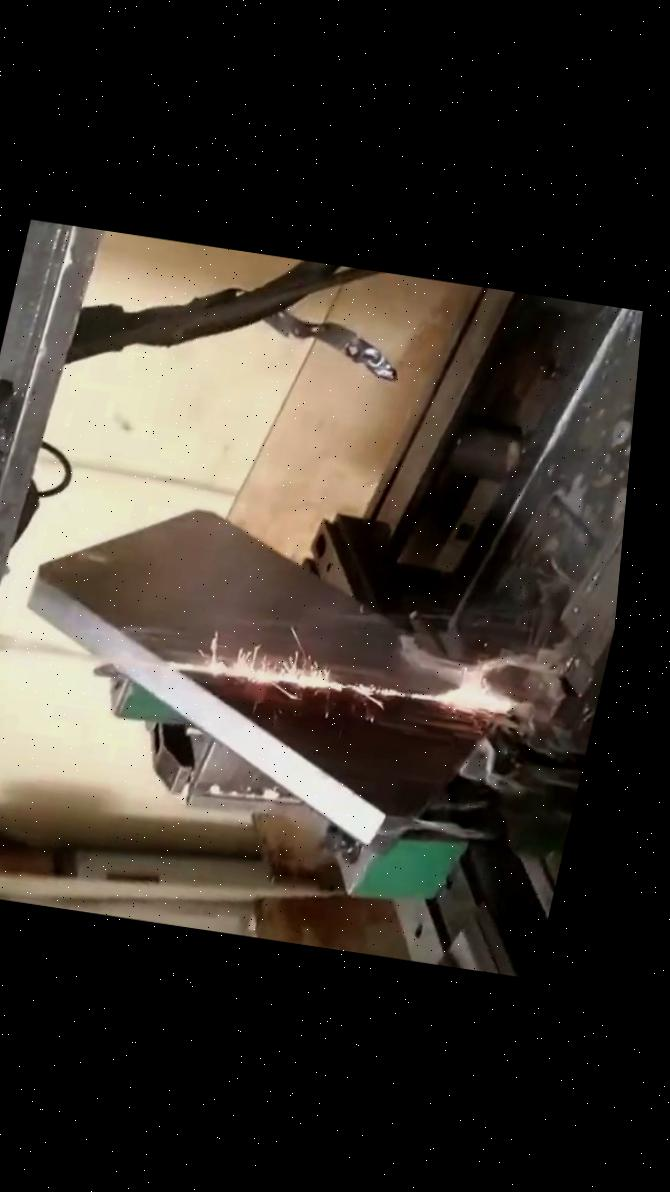fire: (12, 596, 604, 743)
